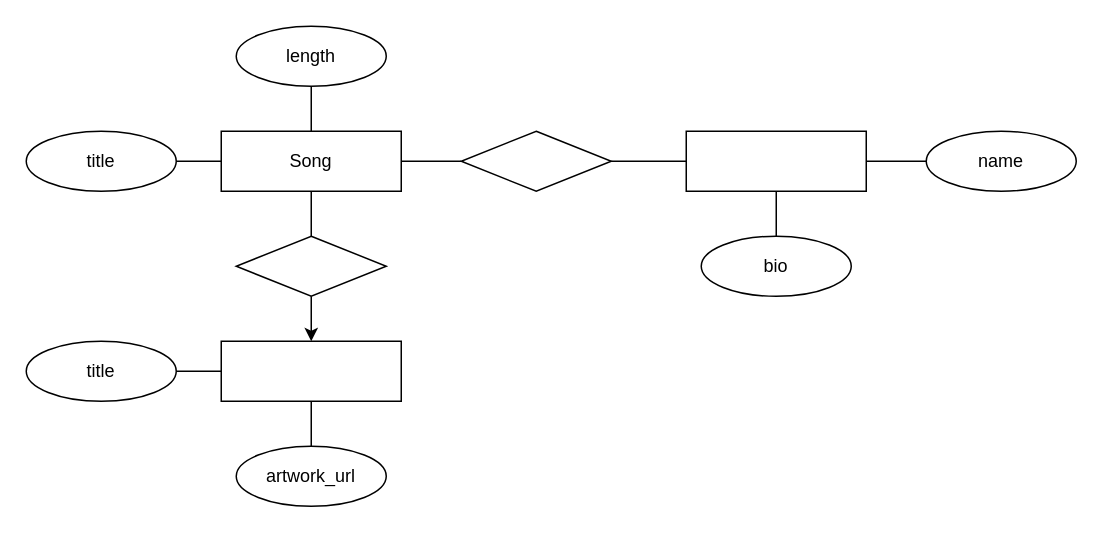
Image size: 1103x533. Some labels were removed from this diagram. Each missing label, with the centre of its shape:
Album: the point at 310,370
Artist: the point at 775,160
Belongs to: the point at 310,265
Written by: the point at 535,160
